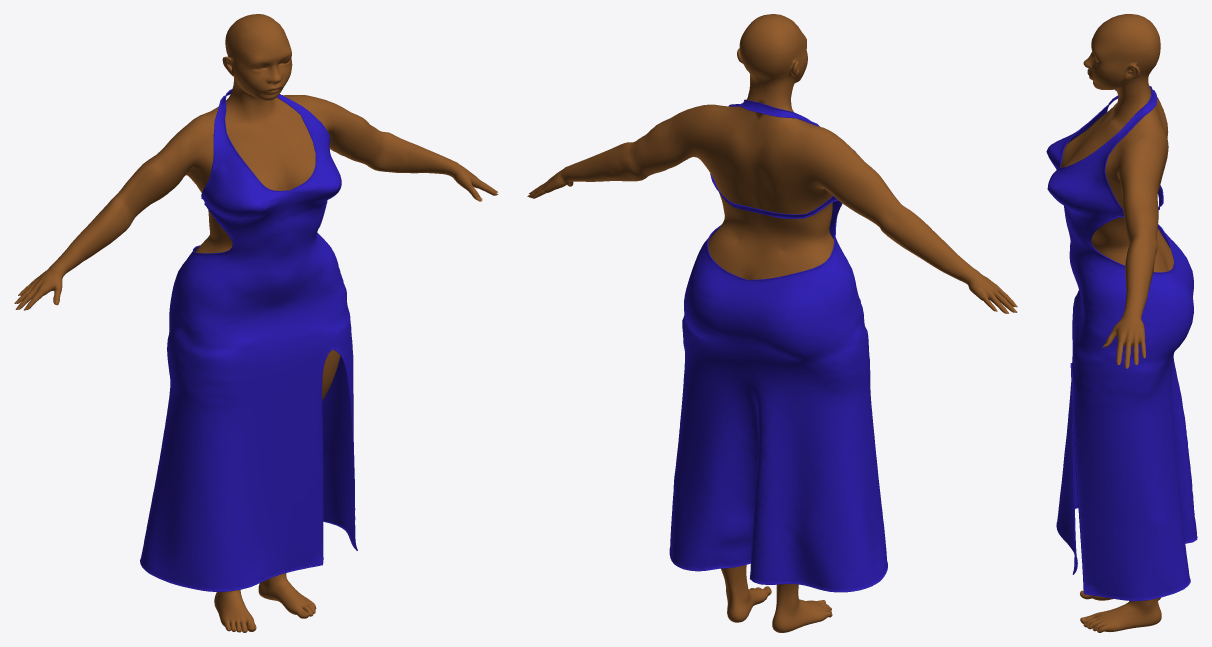
The model's file is dress9.glb.
The picture shows the model from 3 angles, left to right: view 1: azimuth 30°, elevation 25°; view 2: azimuth 150°, elevation 25°; view 3: azimuth 270°, elevation 25°; orthographic projection.
Parts seen in each view (by area): view 1: EveningDress, Body; view 2: EveningDress, Body; view 3: EveningDress, Body.
Boxes of the visible parts, bbox=[...] form: EveningDress: bbox=[140, 89, 357, 591]; Body: bbox=[17, 14, 497, 632]; EveningDress: bbox=[669, 99, 887, 592]; Body: bbox=[529, 14, 1014, 632]; EveningDress: bbox=[1046, 86, 1197, 601]; Body: bbox=[1060, 14, 1173, 632].
Bounding box in the file's own units: 1.58 × 1.85 × 0.4261.
